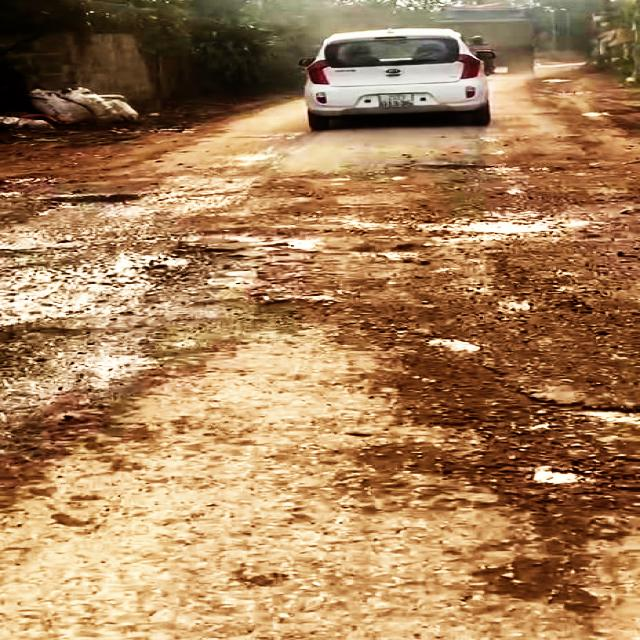pothole: (0, 234, 270, 347), (397, 211, 607, 246)
